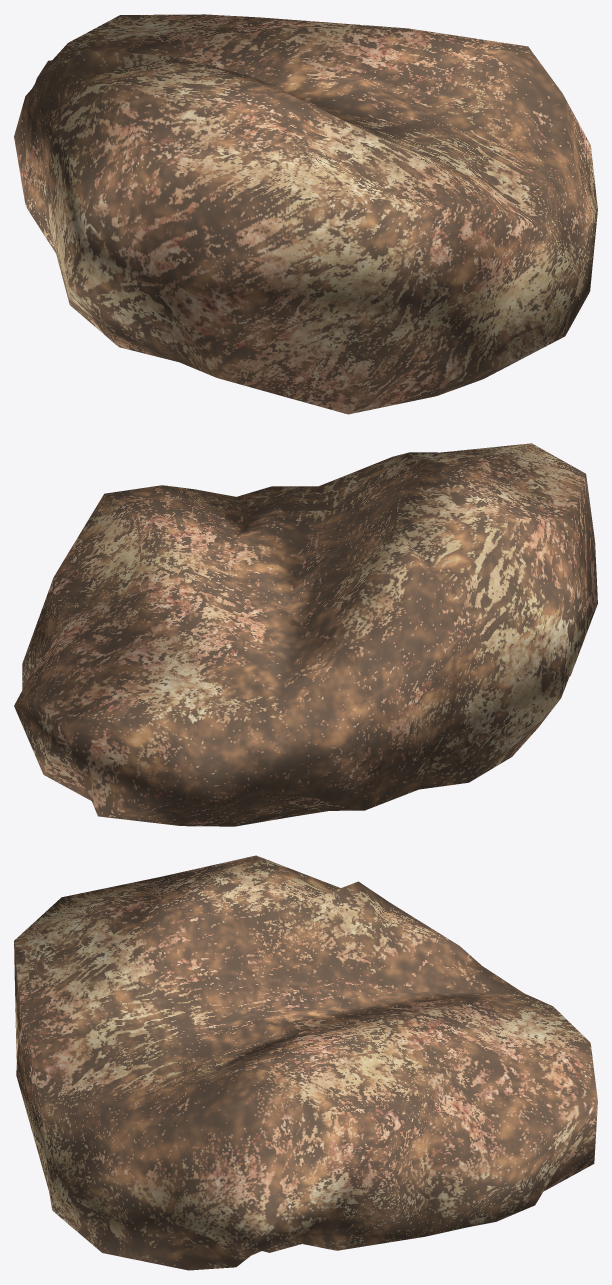
The model's file is Stone1.fbx.
The picture shows the model from 3 angles, top to bottom: view 1: azimuth 30°, elevation 25°; view 2: azimuth 150°, elevation 25°; view 3: azimuth 270°, elevation 25°; orthographic projection. The views are drawn at different scales.
Parts seen in each view (by area): view 1: stone1_blend_export_unwarp:Mesh; view 2: stone1_blend_export_unwarp:Mesh; view 3: stone1_blend_export_unwarp:Mesh.
Boxes of the visible parts, bbox=[...] form: stone1_blend_export_unwarp:Mesh: bbox=[14, 14, 597, 414]; stone1_blend_export_unwarp:Mesh: bbox=[14, 443, 597, 826]; stone1_blend_export_unwarp:Mesh: bbox=[14, 855, 597, 1270].
Bounding box in the file's own units: 1755 × 983 × 1948.
Materials: 1 (1 with a texture image).
